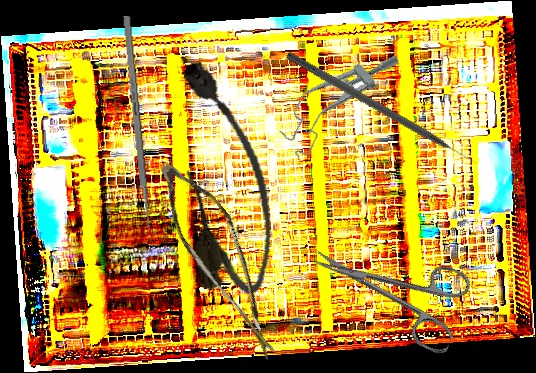Cannula: (167, 53, 282, 300)
Hook Surgical: (284, 50, 480, 169)
Iris Scissors: (299, 215, 479, 357)
Micro Scissor: (129, 154, 320, 364)
Pusher: (122, 15, 155, 247)
Speculum: (267, 31, 408, 163)
